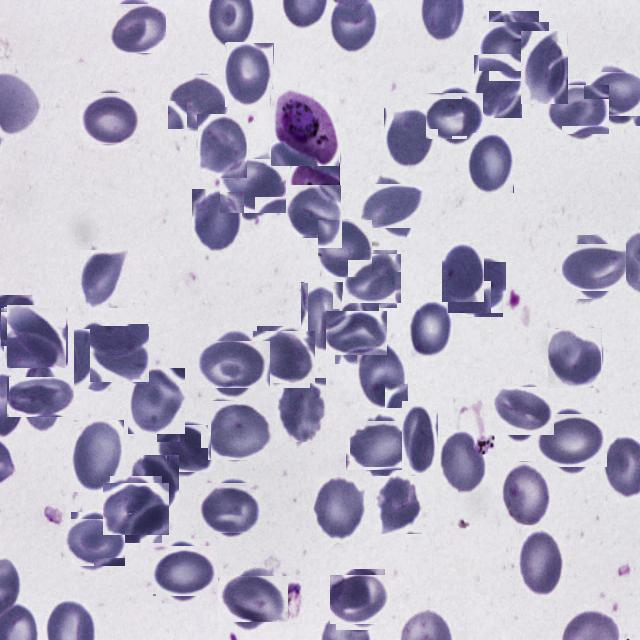difficult: (271, 89, 339, 166)
red blood cell: (540, 409, 602, 472), (70, 420, 124, 492), (210, 400, 272, 462), (5, 306, 67, 368), (128, 368, 185, 434), (223, 156, 283, 216), (351, 415, 411, 475), (204, 335, 264, 395), (484, 16, 544, 76), (106, 480, 166, 539), (357, 339, 408, 408), (312, 477, 365, 543), (74, 320, 122, 392), (521, 31, 568, 104), (170, 73, 228, 131), (224, 570, 282, 628), (91, 325, 149, 383), (80, 90, 138, 147), (156, 543, 214, 600), (255, 328, 312, 386), (519, 528, 565, 599), (224, 42, 274, 107), (202, 479, 259, 536), (382, 108, 437, 167), (548, 328, 602, 388), (276, 378, 326, 442), (502, 461, 552, 525), (196, 114, 246, 178), (550, 81, 606, 138), (318, 220, 373, 278), (128, 455, 179, 517), (566, 239, 622, 295), (192, 189, 242, 251), (494, 384, 550, 439), (333, 572, 388, 627), (450, 260, 505, 315), (474, 55, 522, 118), (286, 184, 342, 238), (440, 430, 486, 495), (13, 370, 68, 424), (301, 282, 343, 352), (159, 422, 213, 476), (68, 515, 122, 569), (346, 252, 400, 306), (467, 132, 514, 193), (365, 180, 419, 233), (331, 306, 384, 359), (80, 250, 128, 308), (374, 476, 422, 534), (428, 90, 481, 142), (111, 2, 164, 54), (591, 66, 640, 121), (406, 299, 454, 355), (402, 401, 438, 474), (442, 242, 484, 302), (0, 301, 46, 352), (290, 141, 340, 185)
